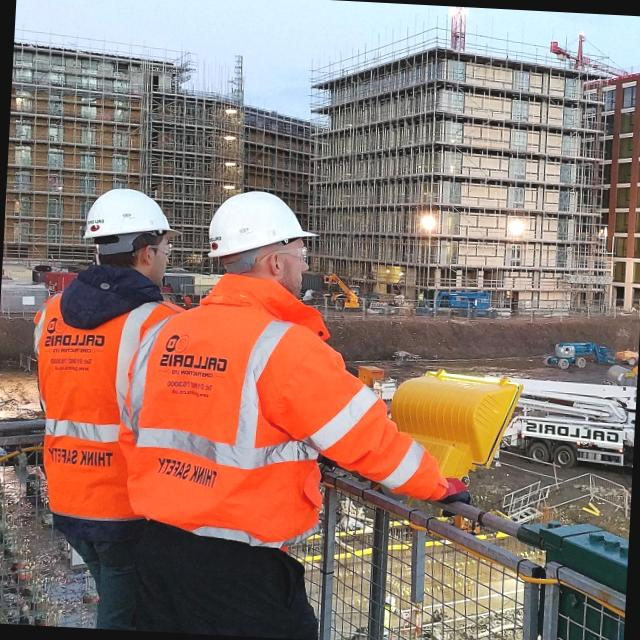helmet: (196, 182, 328, 270), (75, 182, 190, 255)
vest: (128, 277, 346, 548), (18, 287, 176, 536)
